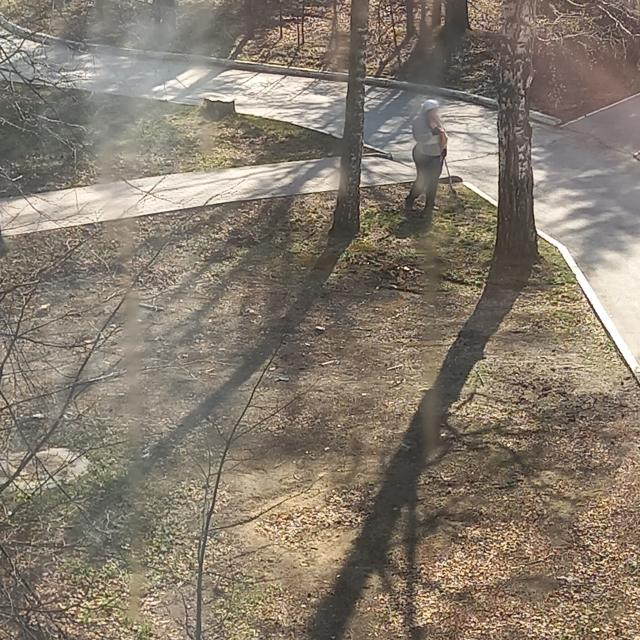person: (406, 100, 447, 217)
